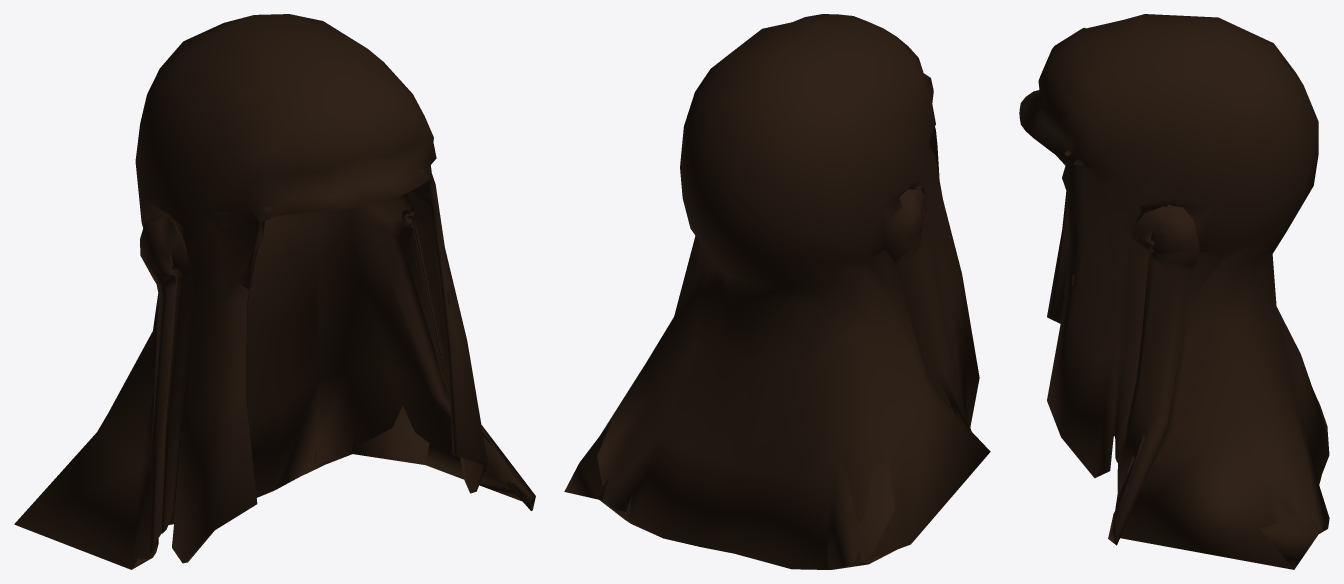
The model's file is hair_long.glb.
3 views of the same model, side by side, from view 1: azimuth 30°, elevation 25°; view 2: azimuth 150°, elevation 25°; view 3: azimuth 270°, elevation 25° (orthographic). The views are drawn at different scales.
Visible parts, largest first — view 1: hair_long; view 2: hair_long; view 3: hair_long.
Boxes of the visible parts, <box> form: hair_long: <box>14,14,535,569</box>; hair_long: <box>564,14,990,569</box>; hair_long: <box>1019,14,1329,569</box>.
Size of the model in its own units: 0.3488 by 0.4377 by 0.2647.
